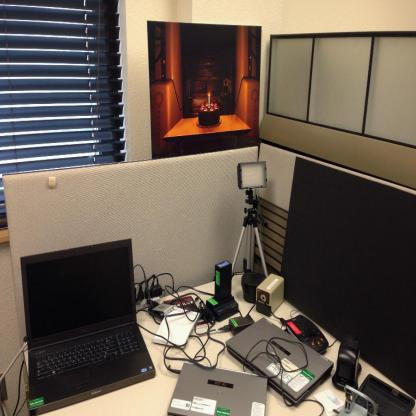board: (20, 238, 156, 415), (226, 317, 333, 406), (168, 362, 268, 416)
